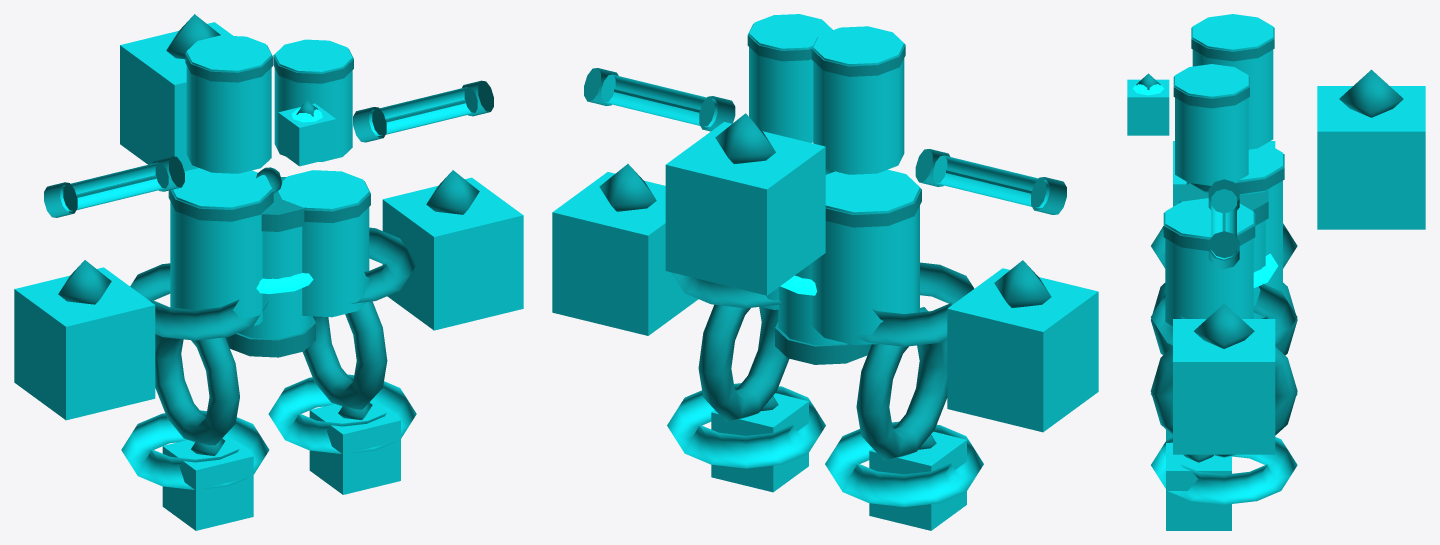
File: golem_058.glb
3 views of the same model, side by side, from view 1: azimuth 30°, elevation 25°; view 2: azimuth 150°, elevation 25°; view 3: azimuth 270°, elevation 25° (orthographic). The views are drawn at different scales.
Parts seen in each view (by area): view 1: Body, Detail, Glow; view 2: Body, Detail; view 3: Body, Detail, Glow.
Boxes of the visible parts, <box> form: Body: <box>14,22,523,530</box>; Detail: <box>44,14,493,455</box>; Glow: <box>256,107,322,293</box>; Body: <box>552,14,1098,530</box>; Detail: <box>584,23,1066,460</box>; Body: <box>1127,14,1425,530</box>; Detail: <box>1136,27,1403,462</box>; Glow: <box>1132,84,1278,287</box>.
Size of the model in its own units: 1.14 by 1.04 by 0.6519.
